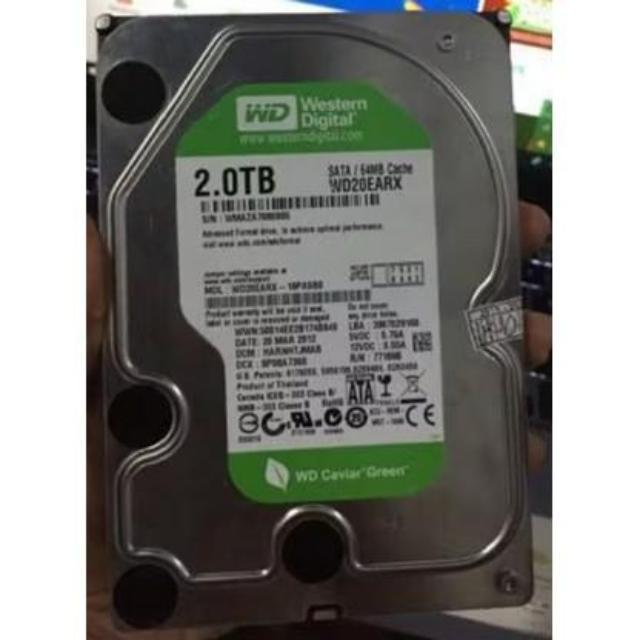DISK: (87, 3, 542, 629)
